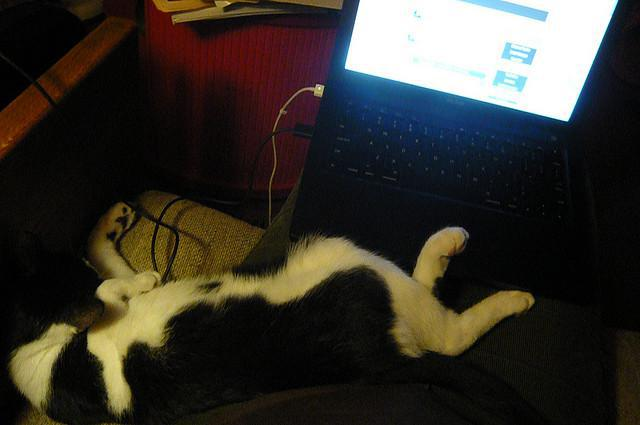tv: (329, 2, 621, 126)
